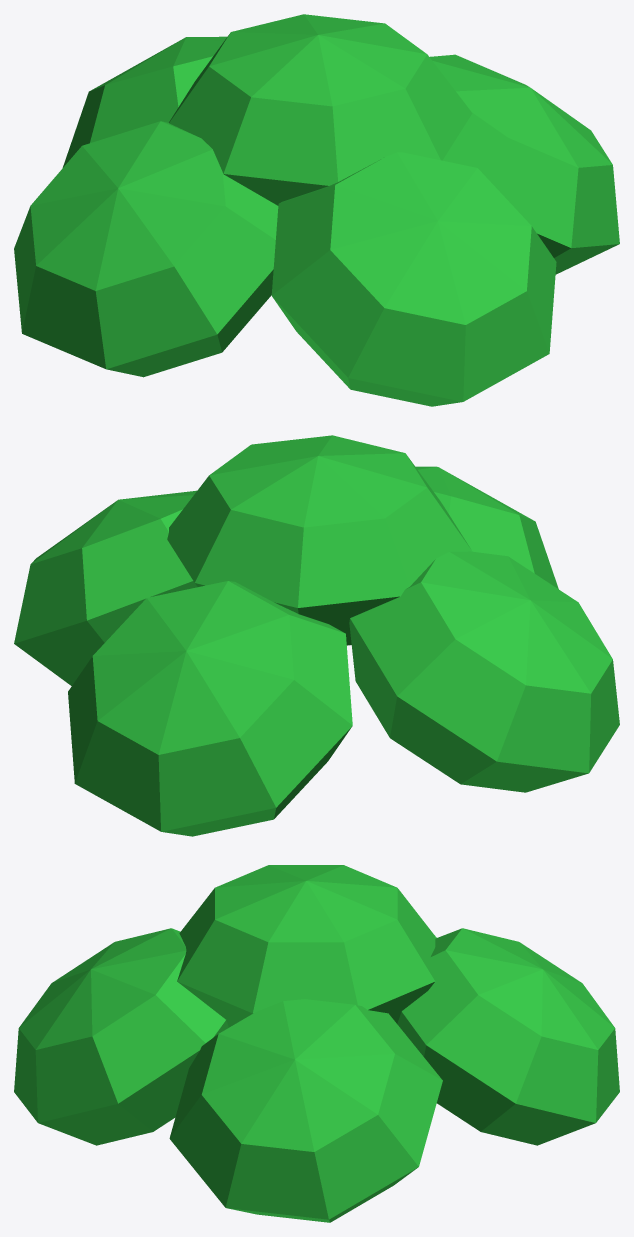
File: samuu-canopy.glb
3 renders of one model, top to bottom at view 1: azimuth 30°, elevation 25°; view 2: azimuth 150°, elevation 25°; view 3: azimuth 270°, elevation 25°, orthographic. The views are drawn at different scales.
Parts seen in each view (by area): view 1: hojas (×5); view 2: hojas (×5); view 3: hojas (×4).
Boxes of the visible parts, x1,y1,x2,y2 form: hojas (×5): (14, 14, 619, 406); hojas (×5): (14, 435, 619, 836); hojas (×4): (14, 865, 619, 1222).
Bounding box in the file's own units: 1.71 × 0.7954 × 1.76.
1 material, 1 textured.
